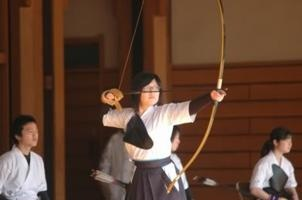person without safety: (125, 73, 181, 200), (4, 108, 53, 196), (253, 123, 300, 199)
